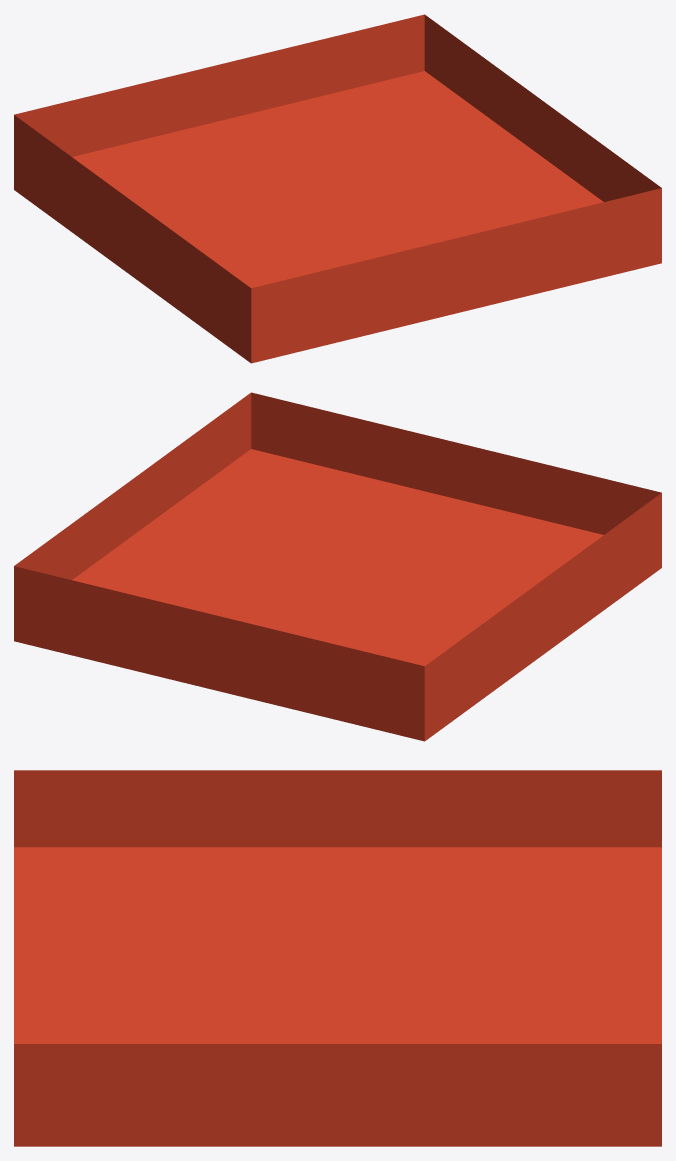
3 views of the same model, one above another, from view 1: azimuth 30°, elevation 25°; view 2: azimuth 150°, elevation 25°; view 3: azimuth 270°, elevation 25° (orthographic). The views are drawn at different scales.
Visible parts, largest first — view 1: Cube; view 2: Cube; view 3: Cube.
Part boxes in pixels (bbox=[...]): Cube: bbox=[14, 14, 661, 363]; Cube: bbox=[14, 392, 661, 741]; Cube: bbox=[14, 770, 661, 1146].
Bounding box in the file's own units: 0.8 × 0.8 × 0.14.
